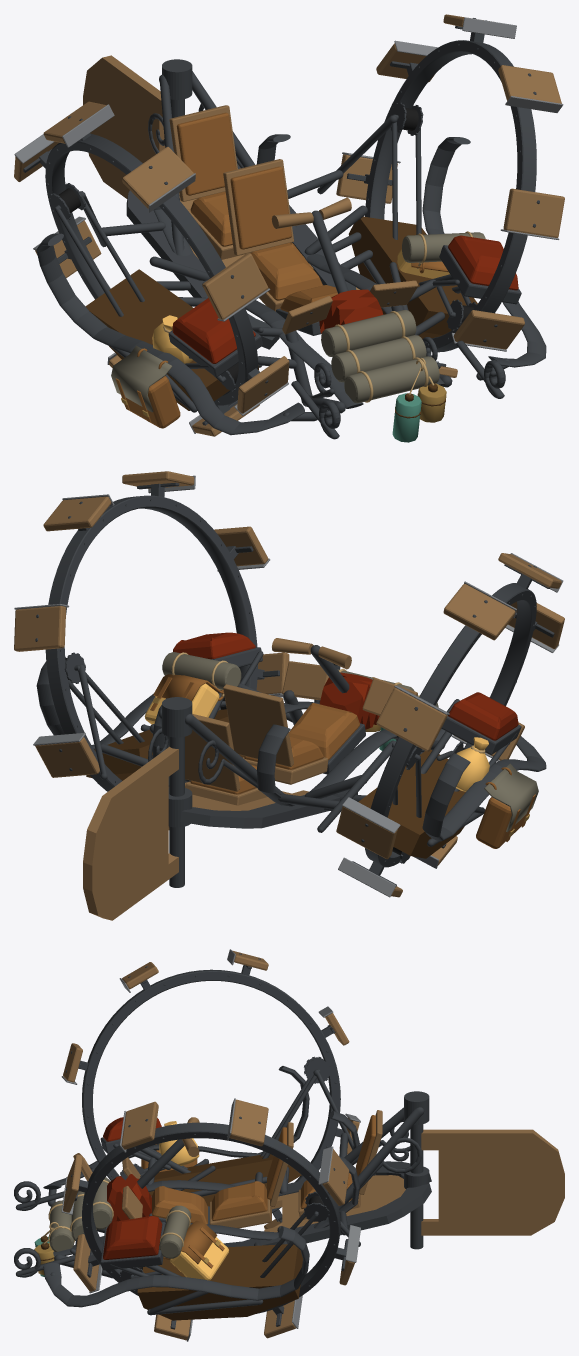
The model's file is desert_monowheel_double_wide.fbx.
3 renders of one model, top to bottom at view 1: azimuth 30°, elevation 25°; view 2: azimuth 150°, elevation 25°; view 3: azimuth 270°, elevation 25°, orthographic. The views are drawn at different scales.
Visible parts, largest first — view 1: Mesh_RingL_DoubleWide, Mesh_RingR_DoubleWide, Mesh_TailPanel_DoubleWide, Mesh_SideHoopOuterR_DoubleWide, Mesh_BellyPanR_DoubleWide, Mesh_BellyPanL_DoubleWide, Mesh_BackCushion_DoubleWide, Mesh_CheekR_DoubleWide, Mesh_PassengerBackCushion_DoubleWide, Mesh_SideHoopOuterL_DoubleWide, Mesh_CargoBedroll_DoubleWide, Mesh_SeatCushion_DoubleWide (+50 smaller); view 2: Mesh_TailPanel_DoubleWide, Mesh_RingL_DoubleWide, Mesh_RingR_DoubleWide, Mesh_SideHoopOuterR_DoubleWide, Mesh_BellyPanR_DoubleWide, Mesh_Backrest_DoubleWide, Mesh_SideHoopInnerR_DoubleWide, Mesh_Paddle07R_DoubleWide, Mesh_RearRailR_DoubleWide, Mesh_LegRestCushion_DoubleWide, Mesh_Paddle00R_DoubleWide, Mesh_Paddle07L_DoubleWide (+42 smaller); view 3: Mesh_TailPanel_DoubleWide, Mesh_RingL_DoubleWide, Mesh_RingR_DoubleWide, Mesh_BellyPanL_DoubleWide, Mesh_SideHoopOuterL_DoubleWide, Mesh_CheekL_DoubleWide, Mesh_RearRailL_DoubleWide, Mesh_BellyPanR_DoubleWide, Mesh_SideSeatCushionL_DoubleWide, Mesh_RearDeck_DoubleWide, Mesh_SeatCushion_DoubleWide, Mesh_CheekR_DoubleWide (+36 smaller).
Part boxes in pixels (x1,y1,x2,y2): Mesh_RingL_DoubleWide: [365, 40, 536, 352]; Mesh_RingR_DoubleWide: [45, 133, 257, 405]; Mesh_TailPanel_DoubleWide: [83, 55, 165, 198]; Mesh_SideHoopOuterR_DoubleWide: [36, 233, 304, 435]; Mesh_BellyPanR_DoubleWide: [85, 269, 258, 410]; Mesh_BellyPanL_DoubleWide: [348, 216, 477, 338]; Mesh_BackCushion_DoubleWide: [230, 166, 291, 249]; Mesh_CheekR_DoubleWide: [148, 74, 345, 439]; Mesh_PassengerBackCushion_DoubleWide: [176, 112, 236, 195]; Mesh_SideHoopOuterL_DoubleWide: [422, 137, 546, 367]; Mesh_CargoBedroll_DoubleWide: [344, 356, 439, 403]; Mesh_SeatCushion_DoubleWide: [250, 242, 322, 300]; Mesh_TailPanel_DoubleWide: [83, 746, 178, 920]; Mesh_RingL_DoubleWide: [45, 495, 257, 791]; Mesh_RingR_DoubleWide: [365, 583, 536, 867]; Mesh_SideHoopOuterR_DoubleWide: [422, 736, 546, 841]; Mesh_BellyPanR_DoubleWide: [358, 749, 465, 858]; Mesh_Backrest_DoubleWide: [223, 684, 293, 766]; Mesh_SideHoopInnerR_DoubleWide: [256, 724, 396, 806]; Mesh_Paddle07R_DoubleWide: [376, 687, 447, 751]; Mesh_RearRailR_DoubleWide: [180, 789, 357, 828]; Mesh_LegRestCushion_DoubleWide: [289, 703, 359, 759]; Mesh_Paddle00R_DoubleWide: [443, 583, 515, 640]; Mesh_Paddle07L_DoubleWide: [14, 606, 66, 651]; Mesh_TailPanel_DoubleWide: [421, 1129, 564, 1235]; Mesh_RingL_DoubleWide: [82, 1122, 340, 1313]; Mesh_RingR_DoubleWide: [82, 969, 340, 1212]; Mesh_BellyPanL_DoubleWide: [137, 1244, 302, 1320]; Mesh_SideHoopOuterL_DoubleWide: [43, 1226, 309, 1307]; Mesh_CheekL_DoubleWide: [14, 1107, 424, 1278]; Mesh_RearRailL_DoubleWide: [223, 1183, 431, 1247]; Mesh_BellyPanR_DoubleWide: [149, 1154, 301, 1206]; Mesh_SideSeatCushionL_DoubleWide: [103, 1216, 162, 1259]; Mesh_RearDeck_DoubleWide: [264, 1175, 405, 1232]; Mesh_SeatCushion_DoubleWide: [211, 1181, 267, 1220]; Mesh_CheekR_DoubleWide: [14, 1107, 410, 1233].
Size of the model in its own units: 570 by 387 by 723.
